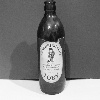beer: (36, 2, 71, 100)
